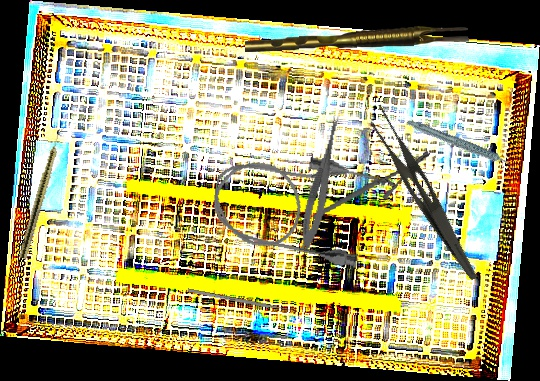Cannula: (205, 139, 386, 271)
Dressing Forceps: (356, 102, 497, 282)
Handpiece: (405, 99, 517, 192), (18, 126, 66, 260)
Micro Scissor: (296, 112, 345, 252)
Needle Holder: (304, 149, 438, 220)
Pusher: (187, 288, 299, 314)
Tissue Forceps: (244, 25, 469, 53)
